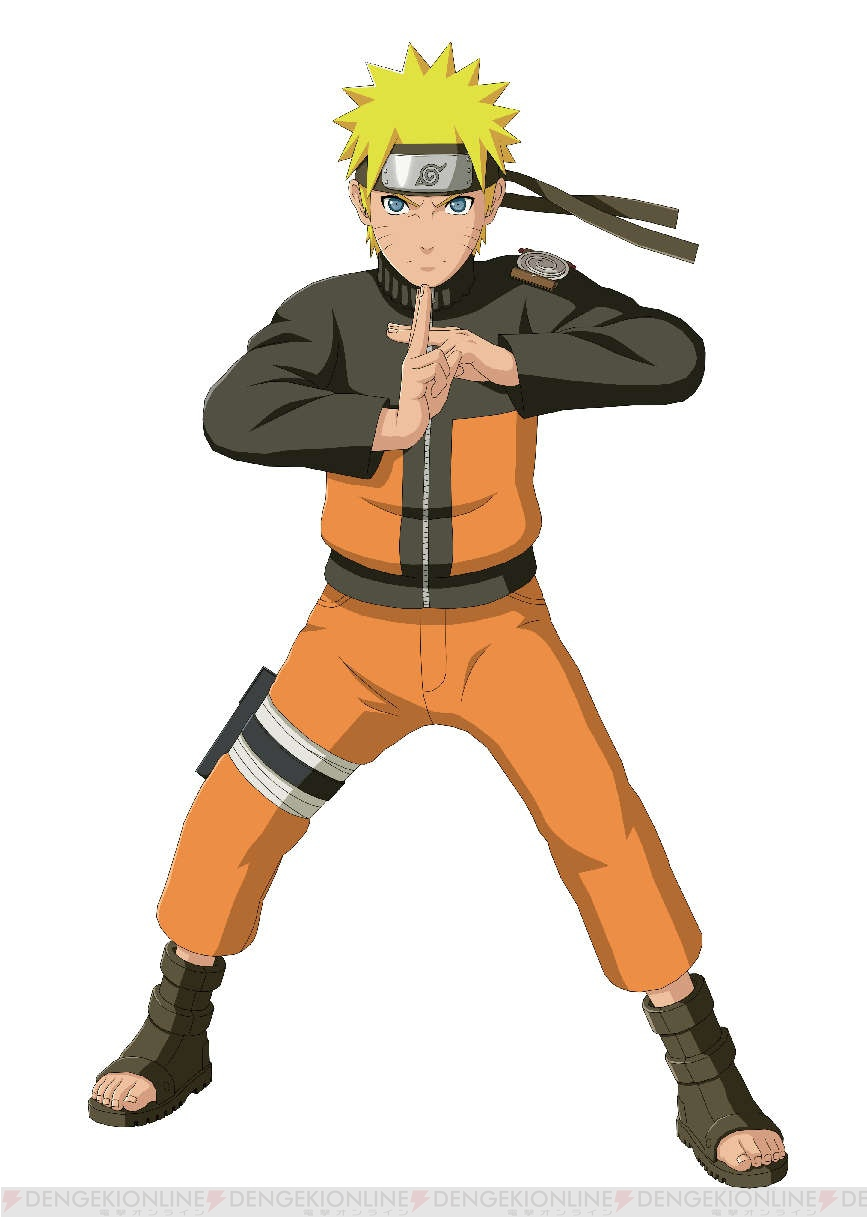naruto: (341, 131, 515, 289)
